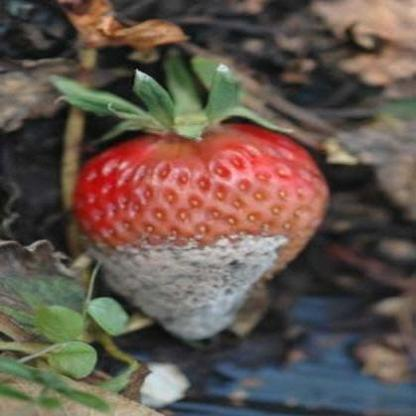Strawberry_Gray_Mold: (80, 230, 294, 340)
